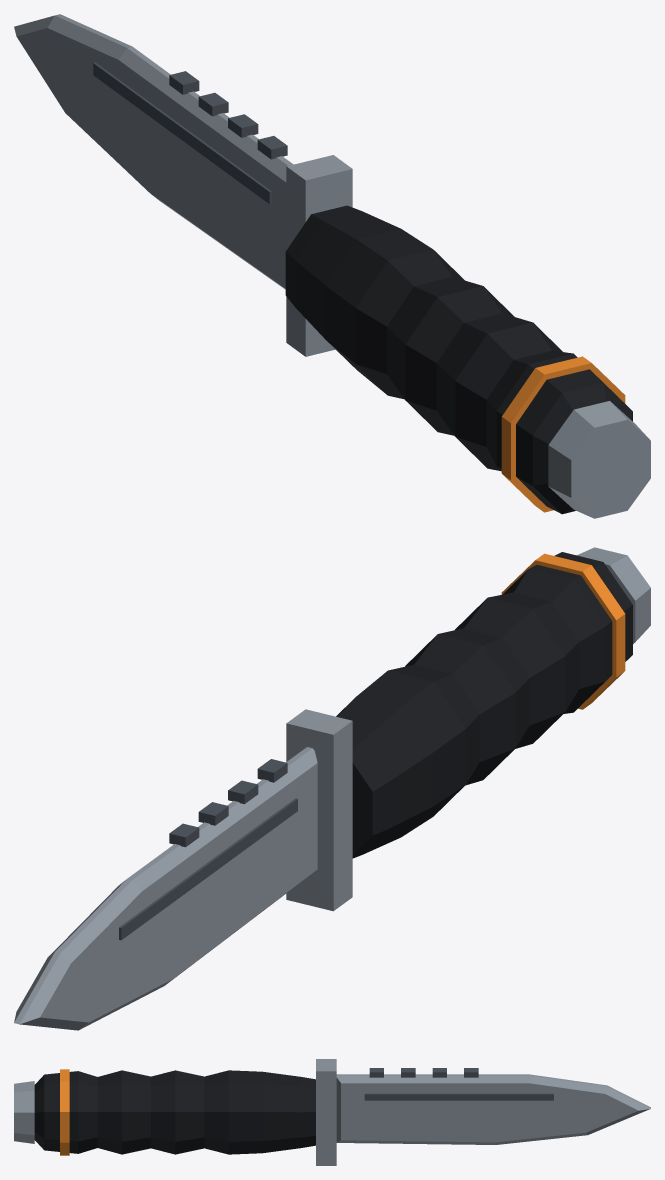
The model's file is knife.glb.
3 views of the same model, one above another, from view 1: azimuth 30°, elevation 25°; view 2: azimuth 150°, elevation 25°; view 3: azimuth 270°, elevation 25° (orthographic). The views are drawn at different scales.
Parts seen in each view (by area): view 1: Body; view 2: Body; view 3: Body.
Boxes of the visible parts, x1=… form: Body: x1=14, y1=14, x2=650, y2=518; Body: x1=14, y1=547, x2=650, y2=1030; Body: x1=14, y1=1059, x2=650, y2=1165.
Size of the model in its own units: 0.0292 by 0.043 by 0.2625.
